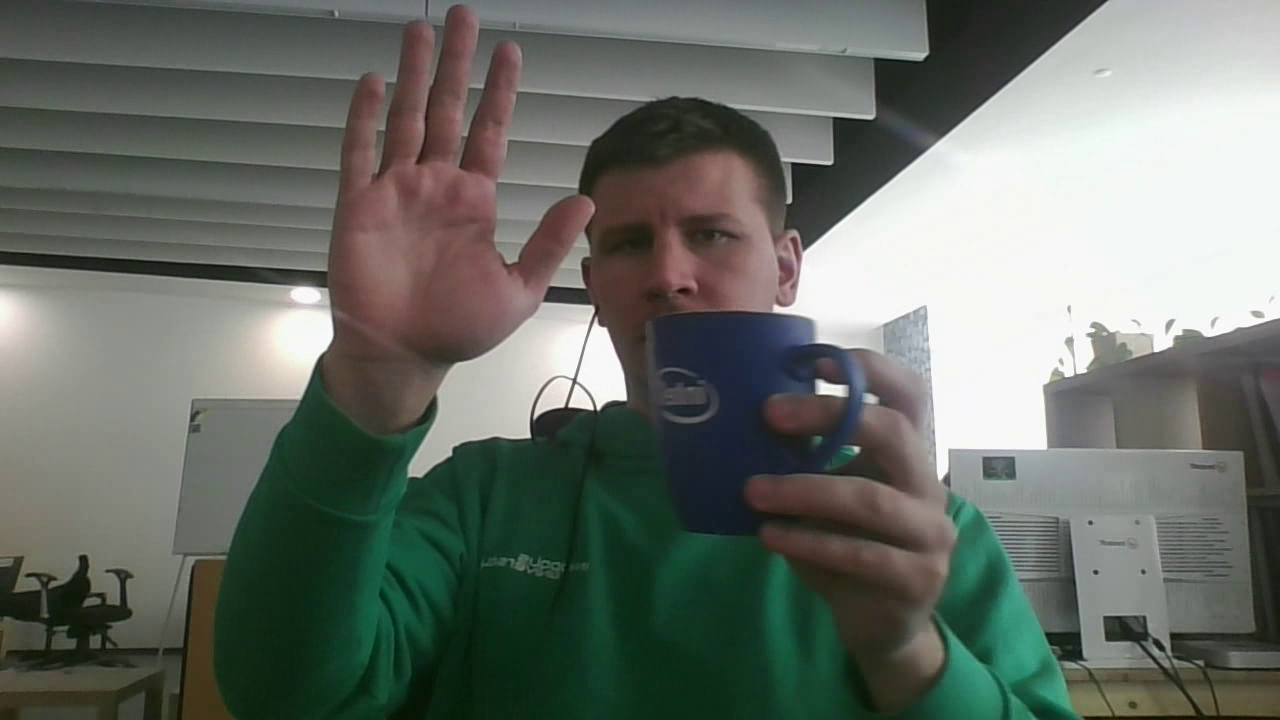cup: (652, 311, 866, 540)
